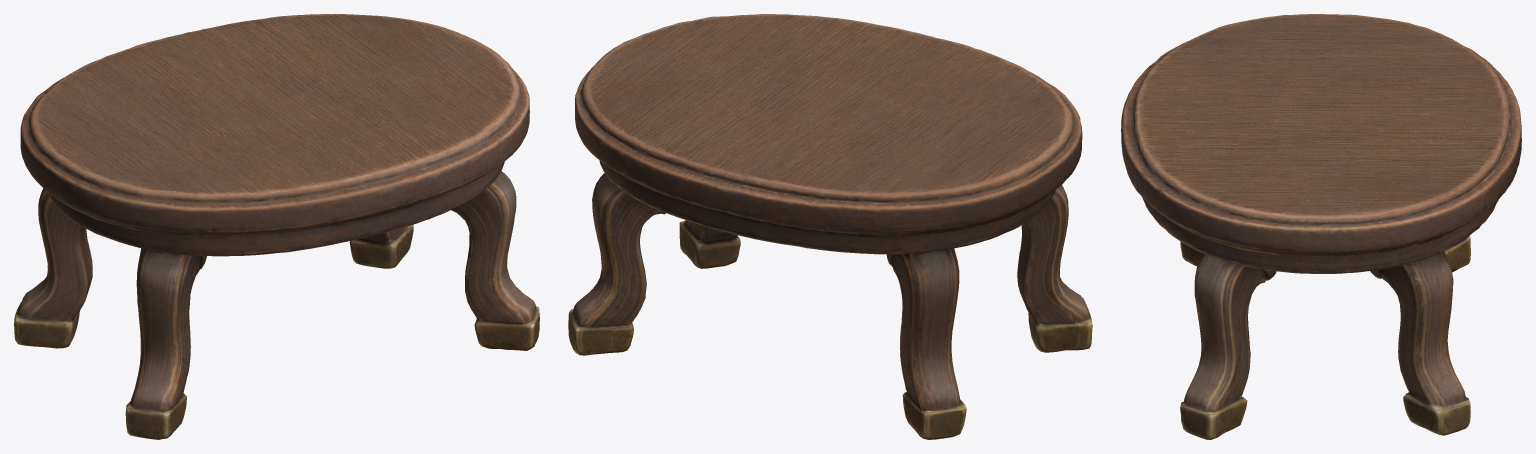
The model's file is Furn_OvalTeaTable.fbx.
3 renders of one model, left to right at view 1: azimuth 30°, elevation 25°; view 2: azimuth 150°, elevation 25°; view 3: azimuth 270°, elevation 25°, orthographic. The views are drawn at different scales.
Visible parts, largest first — view 1: texture_mapping; view 2: texture_mapping; view 3: texture_mapping.
Boxes of the visible parts, bbox=[...] form: texture_mapping: bbox=[14, 14, 539, 439]; texture_mapping: bbox=[568, 14, 1092, 439]; texture_mapping: bbox=[1121, 14, 1521, 439].
Size of the model in its own units: 1 by 0.7975 by 0.5083.
1 material, 1 textured.
